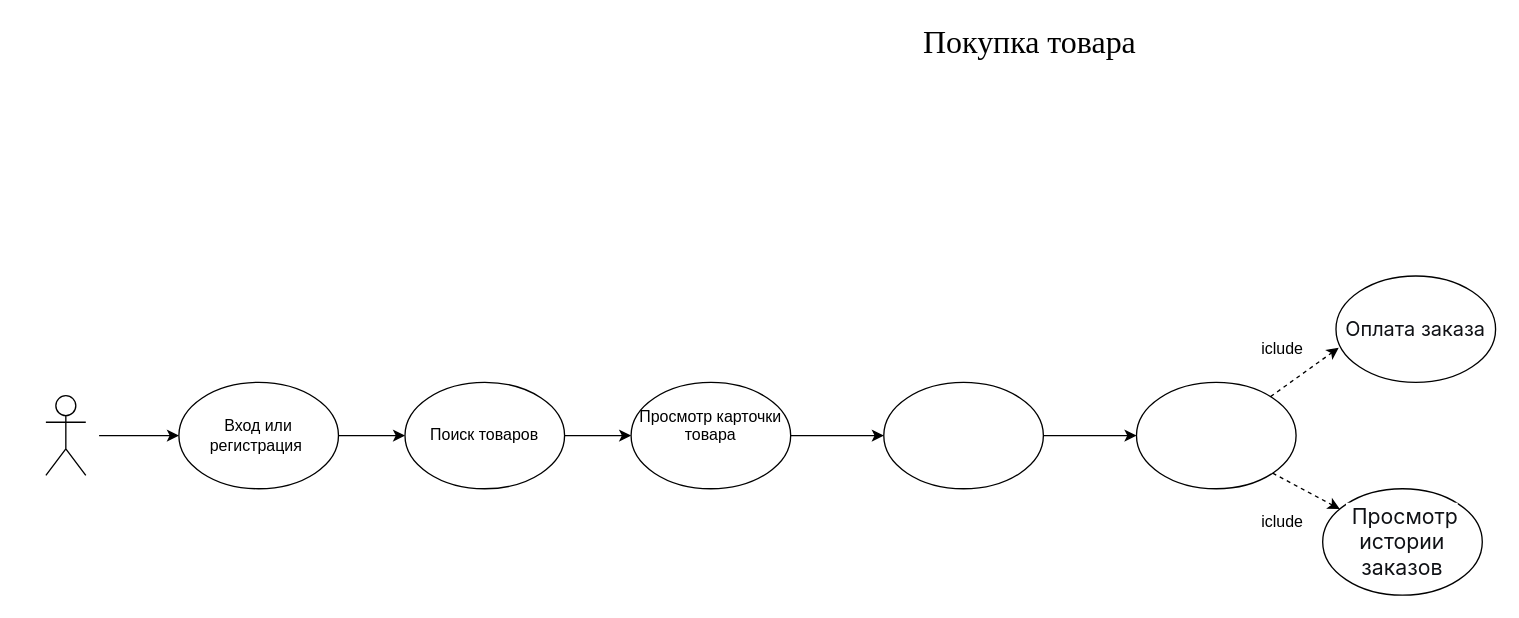
Image size: 1519x618. Some labels were removed from this diagram. The shapes that lost their labels are listed below. From the top down, each one's centre as x and y in pixels, then its label:
At point 65,434: "Покупатель".
At point 962,435: "Добавление товара в корзину".
At point 1215,435: "Оформление заказа".
